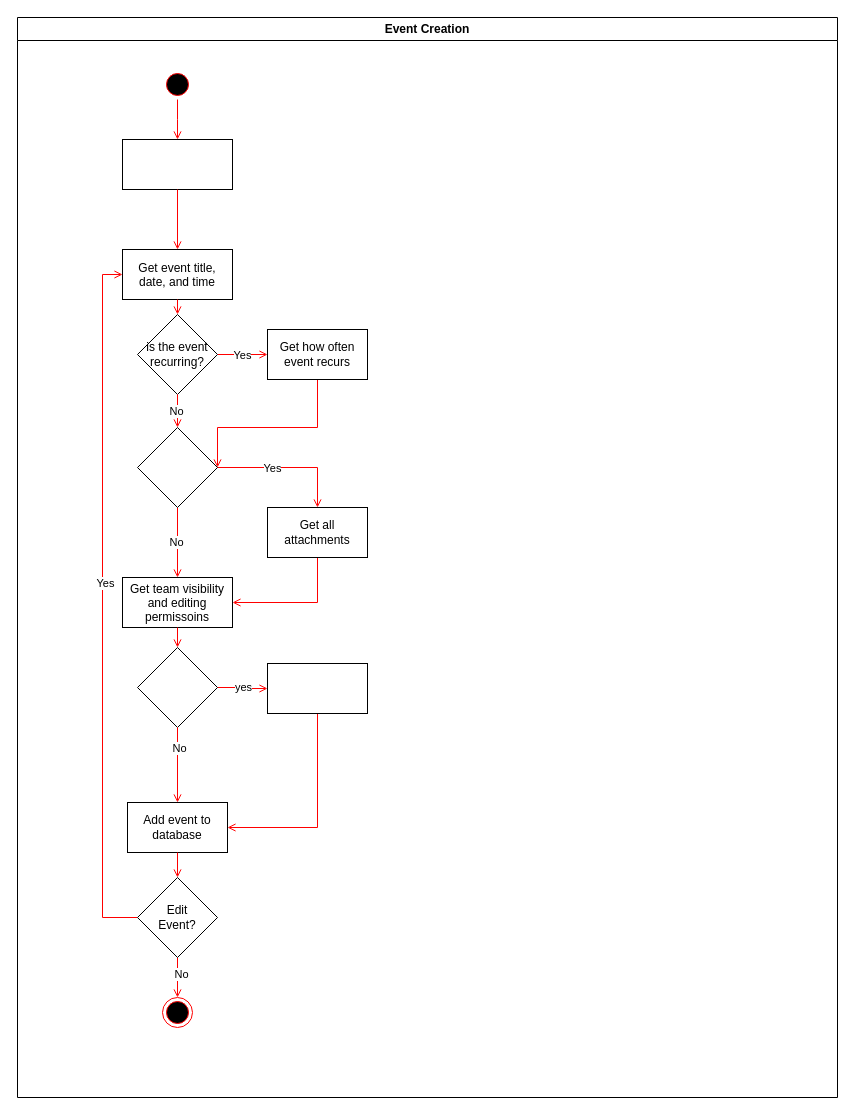
Image size: 855x1115. Some labels were removed from this diagram. The centre of each missing label's shape, as x and y in pixels:
Any file attachments?: (x=177, y=467)
Invite others?: (x=177, y=687)
Send event invite to selected users: (x=317, y=688)
User selects create new event: (x=177, y=164)
